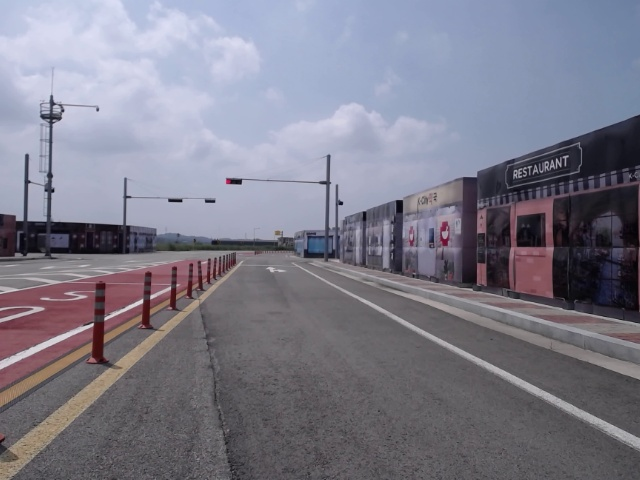red_3: (226, 178, 242, 185)
